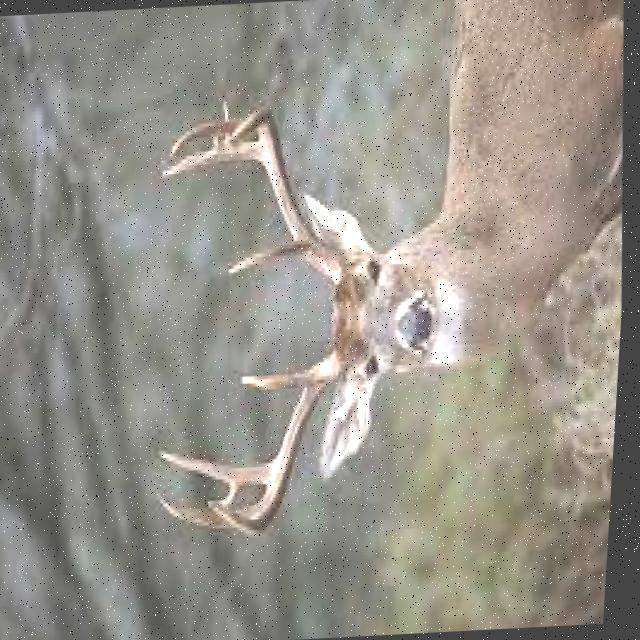L-F: (227, 109, 342, 283)
L-G1: (231, 239, 312, 275)
L-G2: (162, 140, 268, 179)
R-F: (218, 352, 346, 534)
R-G1: (244, 363, 323, 390)
R-G2: (166, 452, 278, 485)
